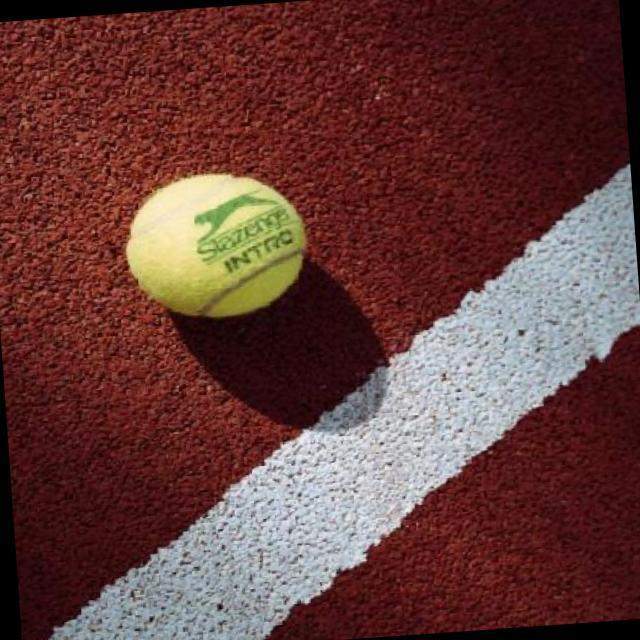-: (110, 156, 319, 329)
